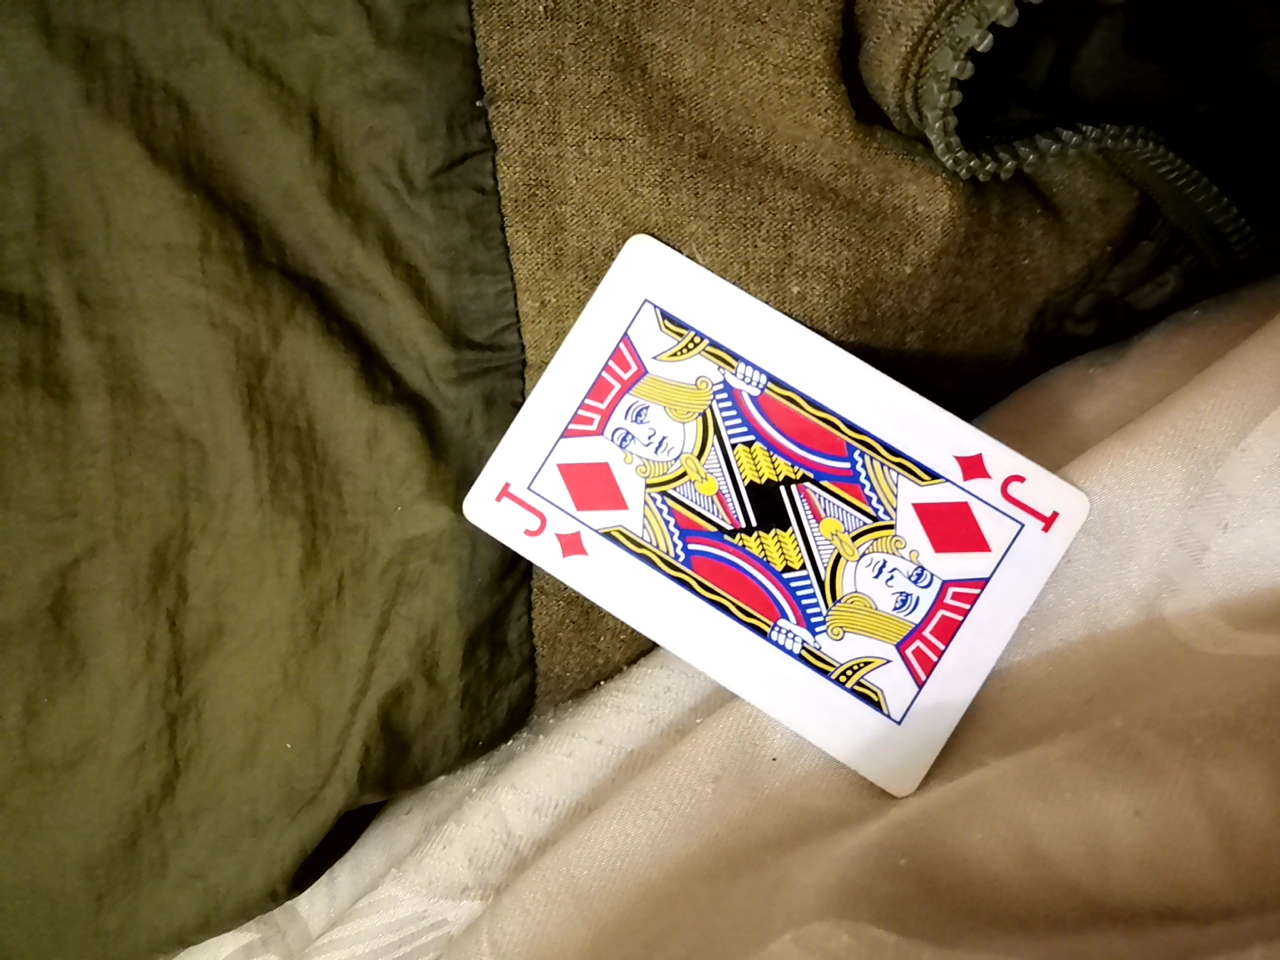fk j: (428, 245, 1070, 782)
